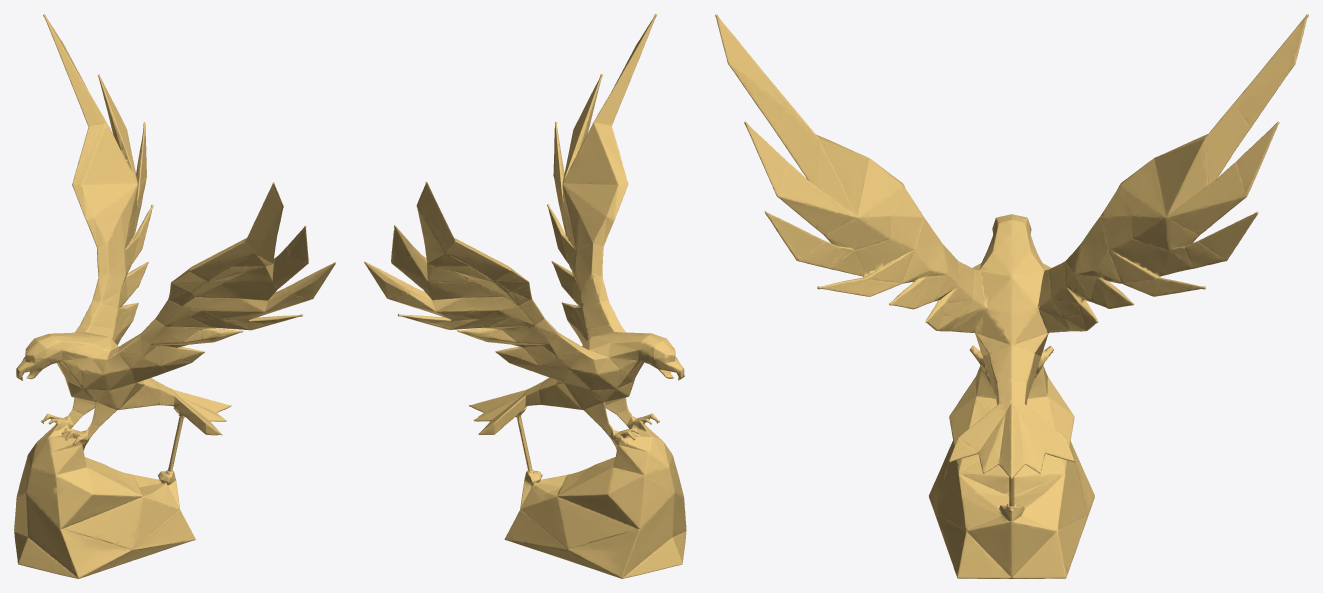
Rendered from floor-eagle-gold.glb.
3 views of the same model, side by side, from view 1: azimuth 30°, elevation 25°; view 2: azimuth 150°, elevation 25°; view 3: azimuth 270°, elevation 25° (orthographic). The views are drawn at different scales.
Parts seen in each view (by area): view 1: tripo_node_0eb1fb8e-f91a-4c2c-ad83-91eb9d04cc9a; view 2: tripo_node_0eb1fb8e-f91a-4c2c-ad83-91eb9d04cc9a; view 3: tripo_node_0eb1fb8e-f91a-4c2c-ad83-91eb9d04cc9a.
Part boxes in pixels (<box>): tripo_node_0eb1fb8e-f91a-4c2c-ad83-91eb9d04cc9a: <box>14,14,335,578</box>; tripo_node_0eb1fb8e-f91a-4c2c-ad83-91eb9d04cc9a: <box>364,14,686,578</box>; tripo_node_0eb1fb8e-f91a-4c2c-ad83-91eb9d04cc9a: <box>715,14,1308,578</box>.
Size of the model in its own units: 0.5305 by 0.9805 by 0.9468.
